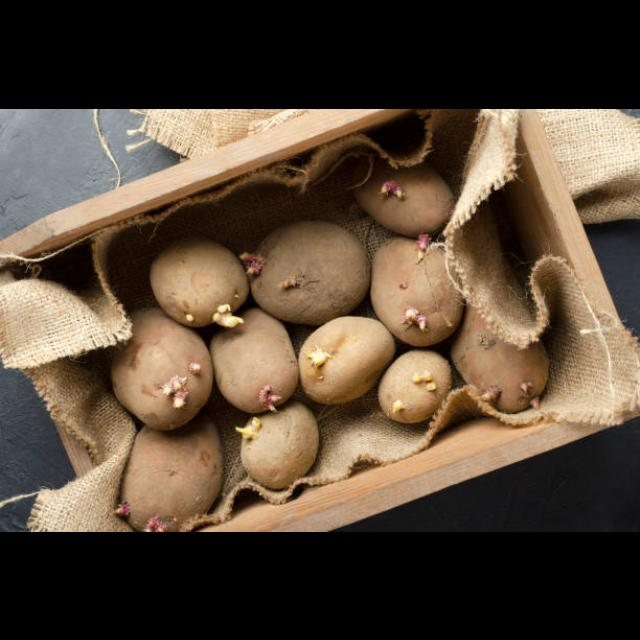Sprouted potato: (104, 413, 252, 531), (242, 215, 376, 328), (106, 302, 218, 436), (346, 150, 460, 256), (370, 230, 472, 348), (452, 304, 560, 414), (210, 306, 310, 420), (142, 236, 250, 334), (292, 312, 396, 408), (229, 402, 327, 488), (378, 346, 456, 428)
